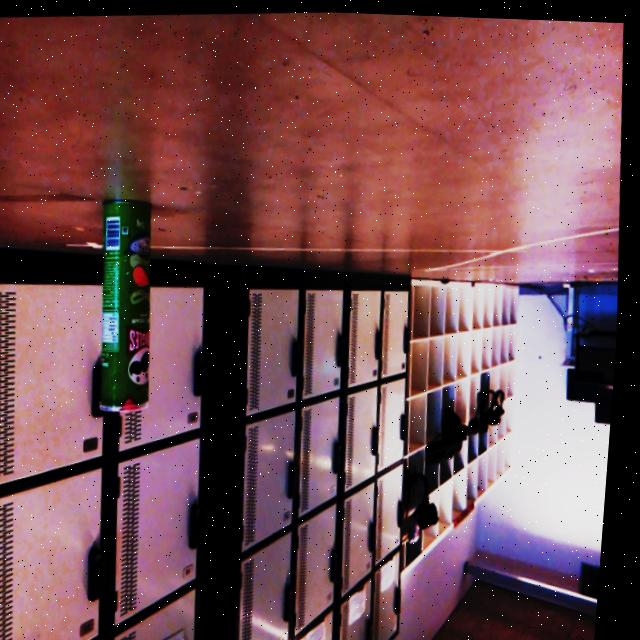greenpringles: (84, 191, 180, 447)
